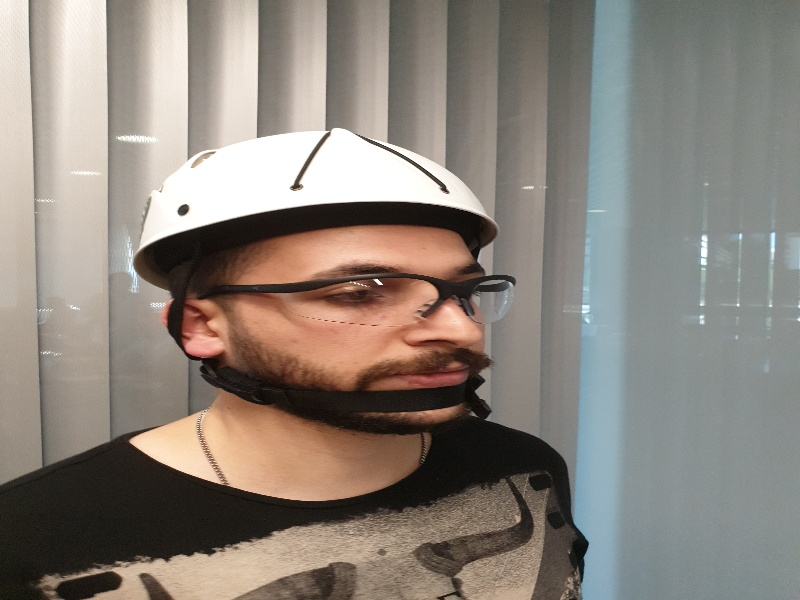Baret: (139, 128, 497, 261)
Gozluk: (208, 276, 514, 325)
